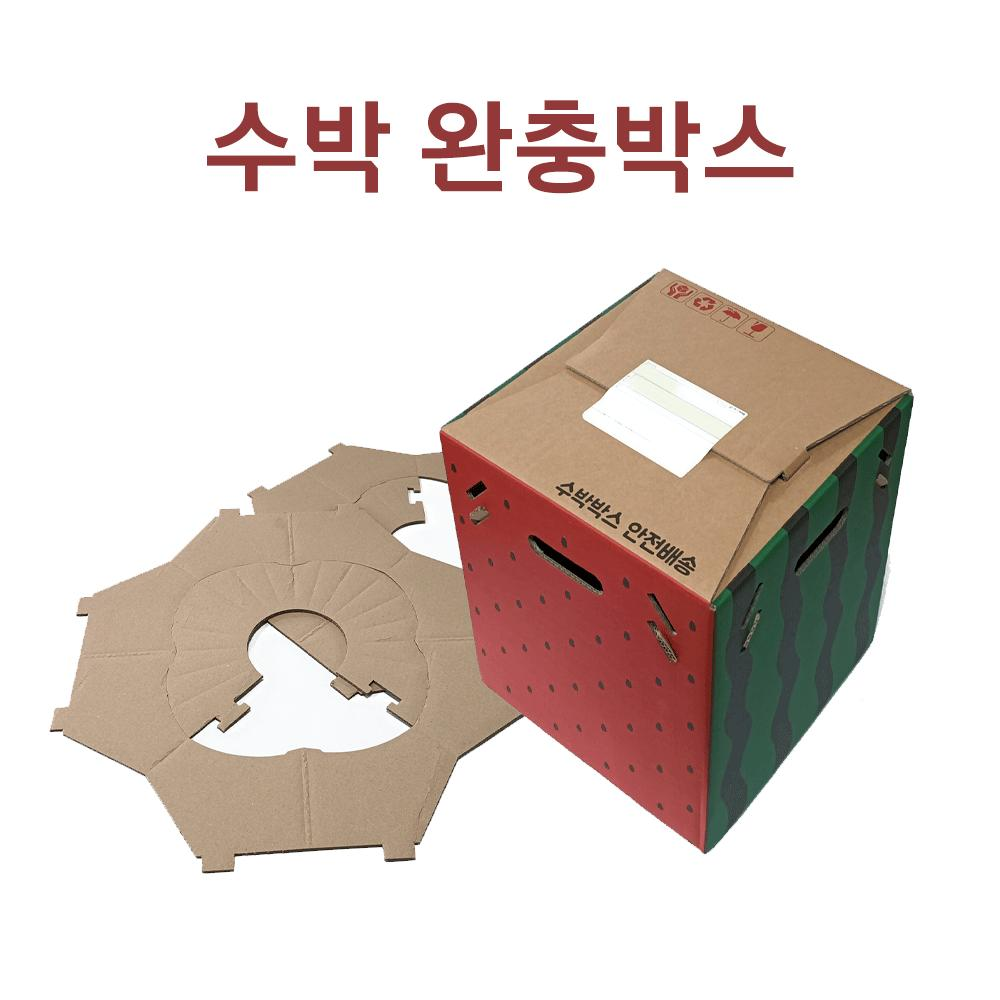box: (439, 270, 913, 857)
